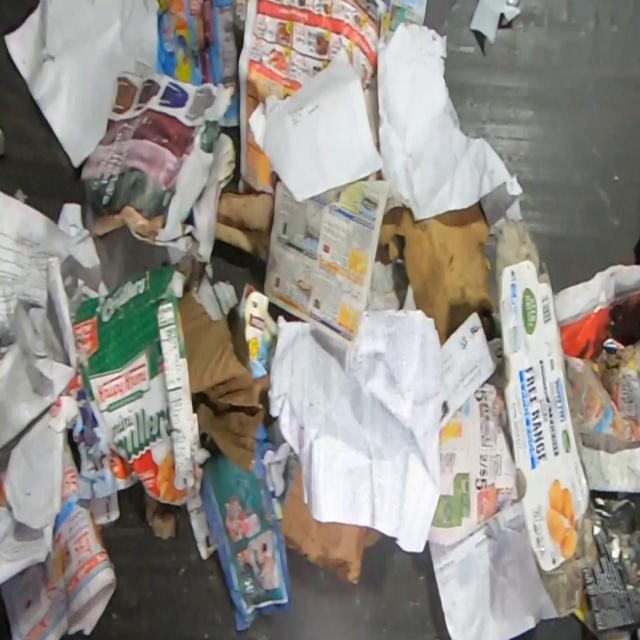cardboard: (494, 220, 590, 616), (70, 260, 212, 507), (179, 293, 270, 475), (279, 464, 382, 584), (213, 190, 274, 266)
